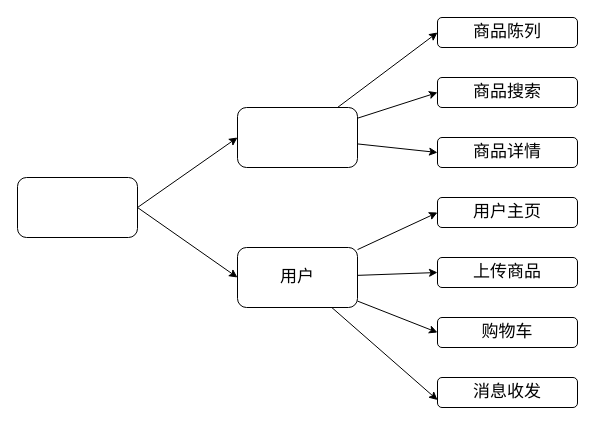
Some shapes in this 595 by 426 pixel diagram are drawn without their labels. Here are the shapes that lost their labels. From the top down, the box of each, then its label:
(236, 106, 358, 168): 商品
(16, 176, 138, 238): 二手交易平台
